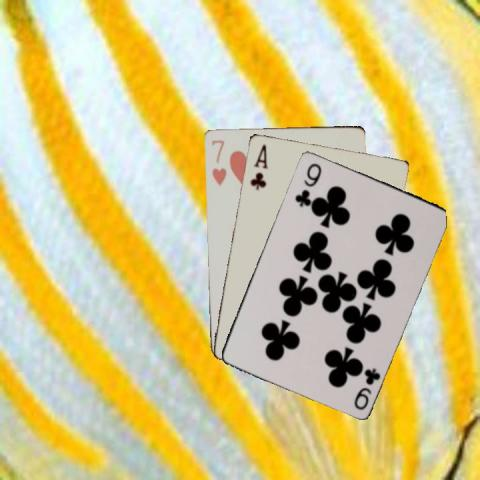7h: (208, 137, 228, 186)
9c: (291, 159, 322, 208), (351, 365, 381, 411)
Ac: (246, 140, 269, 190)
